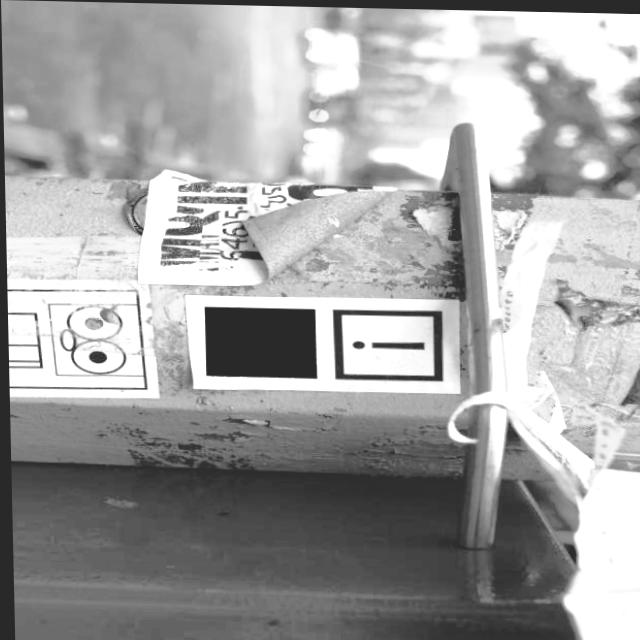qr_code: (202, 305, 314, 377)
